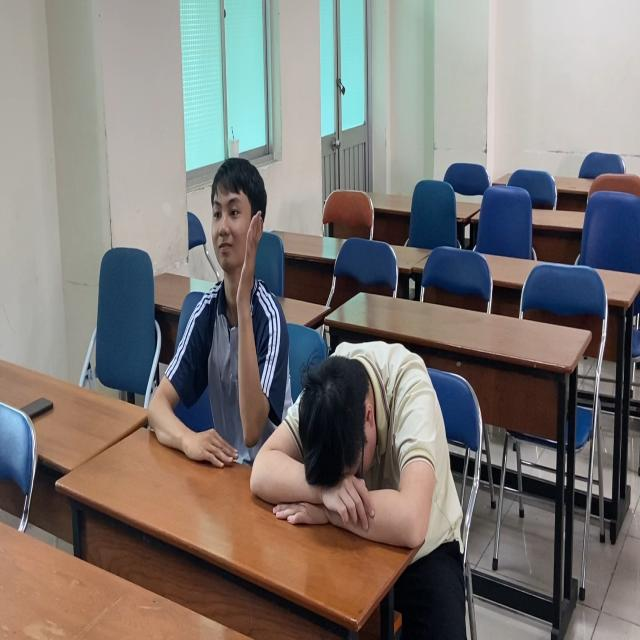raise_hand: (147, 149, 287, 484)
